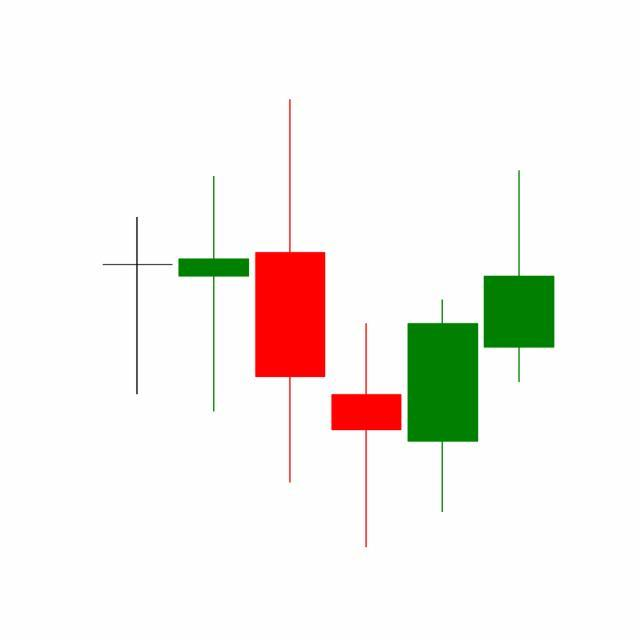Three Outside Up-Down: (326, 166, 555, 549)
